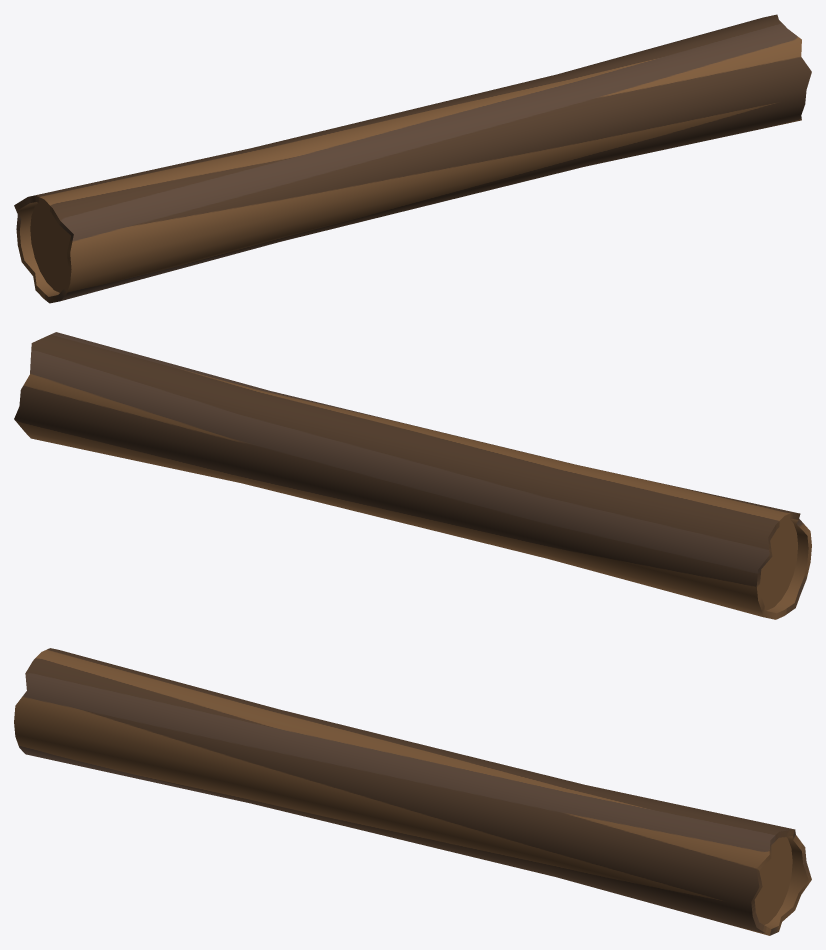
The model's file is Tronc.fbx.
The picture shows the model from 3 angles, top to bottom: view 1: azimuth 30°, elevation 25°; view 2: azimuth 150°, elevation 25°; view 3: azimuth 330°, elevation 25°; orthographic projection.
Visible parts, largest first — view 1: Tronc; view 2: Tronc; view 3: Tronc.
Part boxes in pixels (x1,y1,x2,y2): Tronc: (14,14,811,303); Tronc: (14,332,811,619); Tronc: (14,648,811,935).
Bounding box in the file's own units: 352 × 44.85 × 44.85.
Materials: 1 (1 with a texture image).
